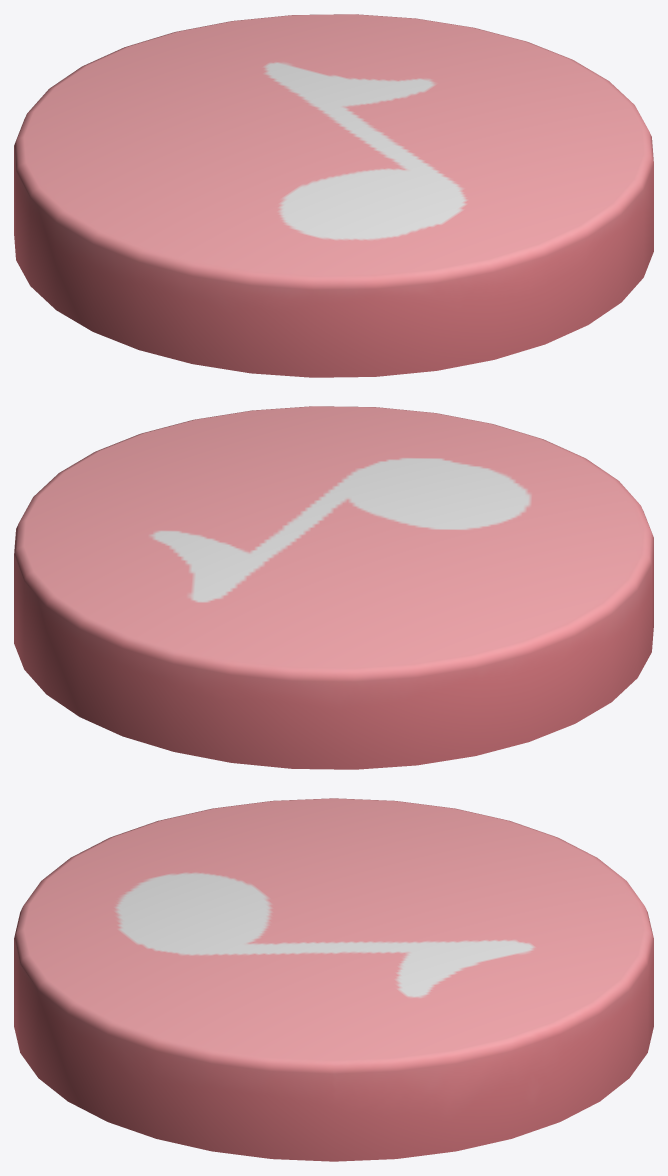
The model's file is vocal_lesson.glb.
3 renders of one model, top to bottom at view 1: azimuth 30°, elevation 25°; view 2: azimuth 150°, elevation 25°; view 3: azimuth 270°, elevation 25°, orthographic.
Parts seen in each view (by area): view 1: vocal_lesson; view 2: vocal_lesson; view 3: vocal_lesson.
Part boxes in pixels (left/top/right/bottom): vocal_lesson: left=14, top=14, right=653, bottom=377; vocal_lesson: left=14, top=406, right=653, bottom=769; vocal_lesson: left=14, top=798, right=653, bottom=1161.
Size of the model in its own units: 0.3536 by 0.059 by 0.3536.
Materials: 1 (1 with a texture image).
